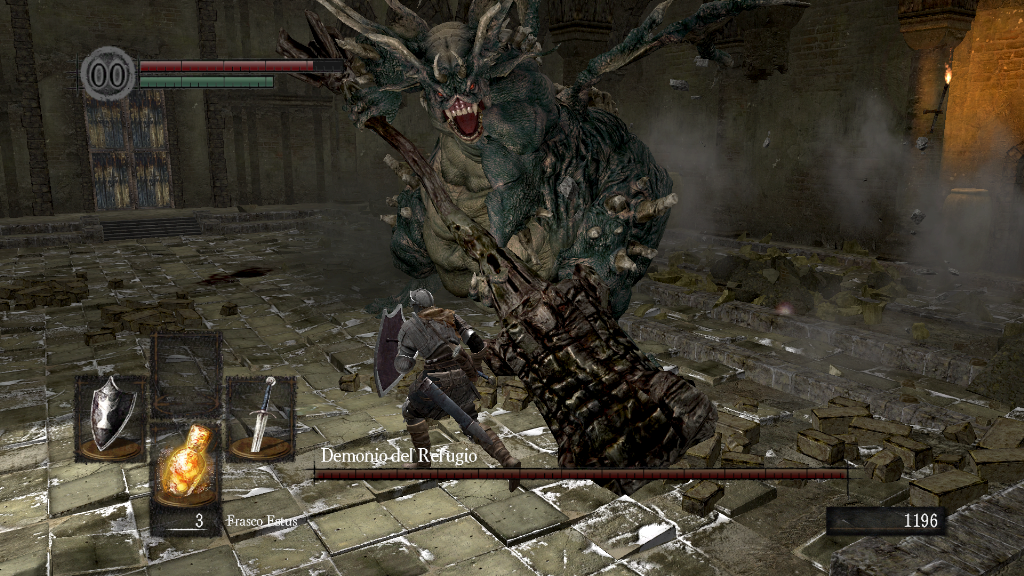asylumDemon: (276, 1, 717, 505)
bossHP: (314, 469, 847, 479)
health: (138, 58, 343, 71)
humanity: (80, 45, 136, 102)
player: (370, 287, 526, 497)
souls: (825, 506, 945, 536)
stamina: (138, 74, 274, 88)
